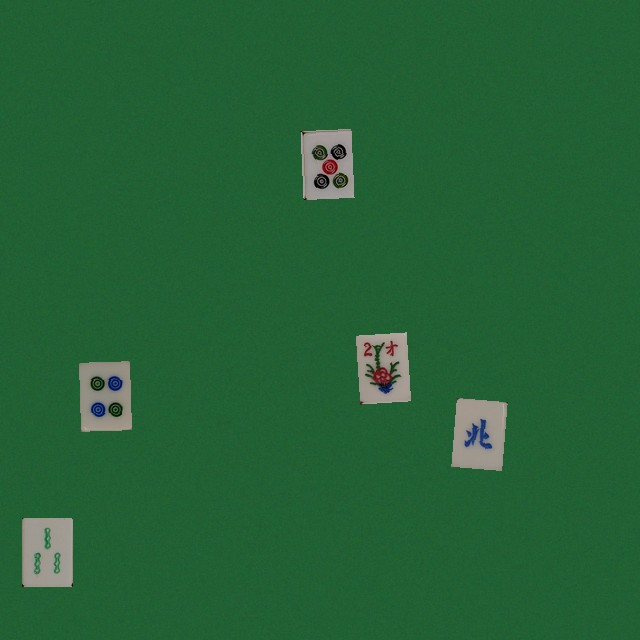tile: (21, 517, 72, 586), (355, 332, 406, 401), (300, 128, 351, 197), (451, 398, 502, 467), (78, 361, 129, 430)
